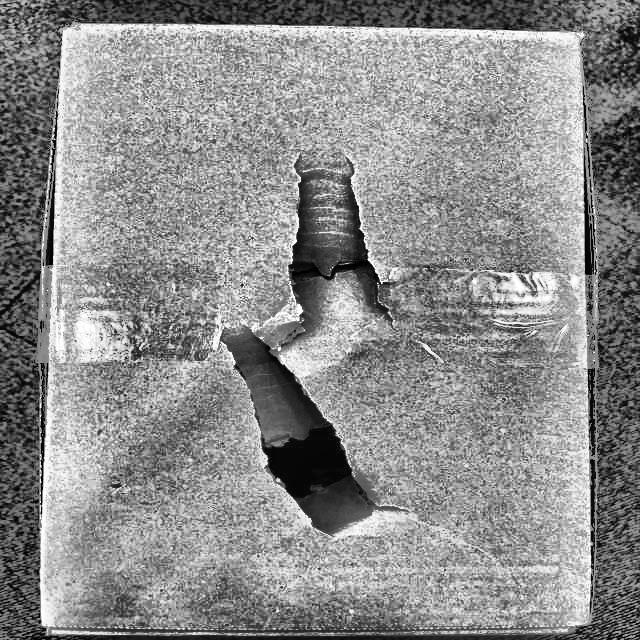box: (37, 21, 603, 635)
hole: (216, 323, 390, 539), (282, 158, 390, 304)
